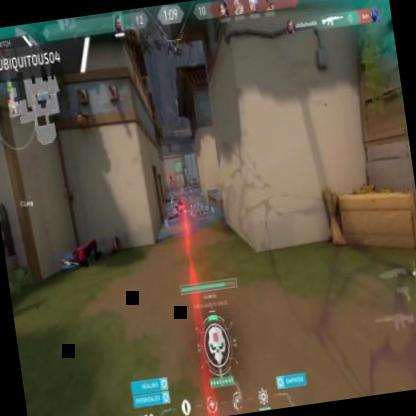enemy: (167, 171, 175, 188), (177, 173, 182, 185)
enemy_head: (168, 171, 170, 174), (178, 174, 180, 176)
